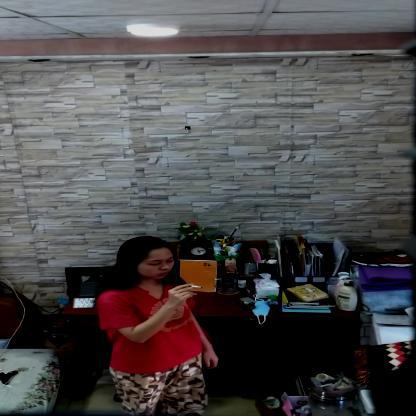cigarette: (190, 285, 204, 289)
person: (95, 235, 220, 415)
